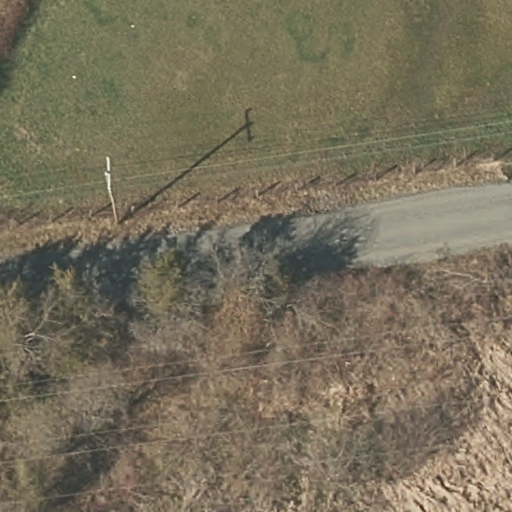DT: (101, 154, 119, 195)
